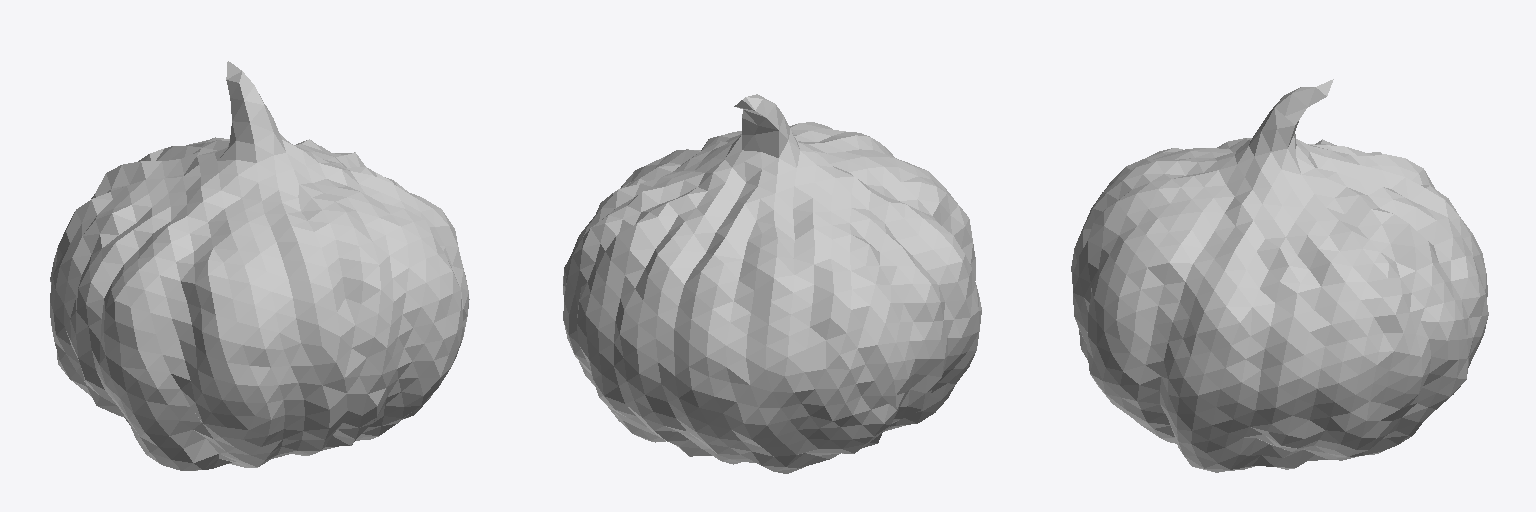
The model's file is pumpkin.obj.
The picture shows the model from 3 angles: view 1: azimuth 30°, elevation 25°; view 2: azimuth 150°, elevation 25°; view 3: azimuth 270°, elevation 25°; orthographic projection.
Parts seen in each view (by area): view 1: pumpkin_low.000; view 2: pumpkin_low.000; view 3: pumpkin_low.000.
Boxes of the visible parts, x1,y1,x2,y2 form: pumpkin_low.000: [50, 61, 469, 470]; pumpkin_low.000: [563, 94, 981, 473]; pumpkin_low.000: [1071, 79, 1488, 472].
Bounding box in the file's own units: 1.76 × 1.67 × 1.8.